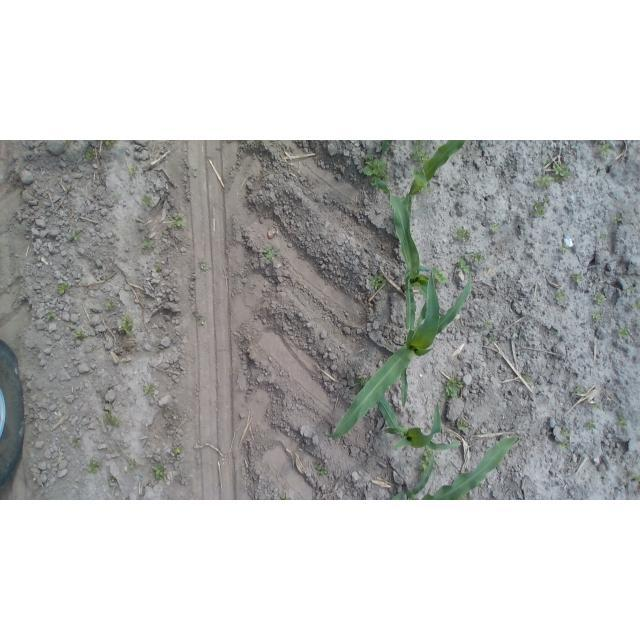Maize: (327, 274, 472, 439), (363, 178, 437, 387), (390, 436, 521, 500), (373, 392, 464, 452), (402, 140, 467, 218)
Weeds: (360, 155, 392, 198), (441, 375, 463, 399), (411, 141, 432, 166), (416, 447, 432, 476), (551, 162, 570, 183), (165, 211, 187, 229), (532, 198, 549, 219), (119, 315, 134, 336), (104, 409, 121, 426), (432, 266, 448, 284), (370, 274, 387, 290), (312, 460, 328, 477), (535, 175, 553, 190), (353, 375, 372, 389), (153, 464, 168, 481), (82, 146, 97, 163), (457, 259, 471, 277), (143, 381, 158, 396), (87, 459, 102, 474), (455, 227, 471, 241), (592, 291, 607, 305), (599, 142, 614, 156), (456, 417, 470, 432), (56, 282, 72, 295), (616, 325, 630, 339), (472, 252, 485, 265), (556, 439, 570, 451), (571, 385, 586, 396), (141, 195, 156, 206), (141, 241, 156, 252), (571, 272, 583, 285), (264, 248, 276, 261), (68, 230, 81, 242), (74, 329, 88, 340), (104, 299, 118, 310), (554, 289, 566, 301), (618, 414, 629, 426), (199, 261, 210, 272), (71, 437, 82, 448), (195, 315, 206, 326), (47, 310, 58, 321), (561, 426, 571, 438), (490, 222, 500, 233), (591, 311, 601, 322), (127, 165, 137, 176), (170, 446, 182, 455), (102, 140, 115, 148), (156, 264, 167, 273), (629, 471, 638, 482), (62, 140, 73, 149), (277, 493, 293, 499), (485, 320, 494, 330), (614, 214, 623, 223), (592, 402, 601, 411), (521, 373, 531, 381), (128, 459, 136, 469), (586, 421, 595, 429), (598, 233, 606, 242), (559, 244, 569, 251), (625, 284, 633, 292), (63, 262, 73, 268), (632, 302, 639, 310), (488, 333, 495, 341), (114, 193, 121, 200), (63, 187, 69, 193)
